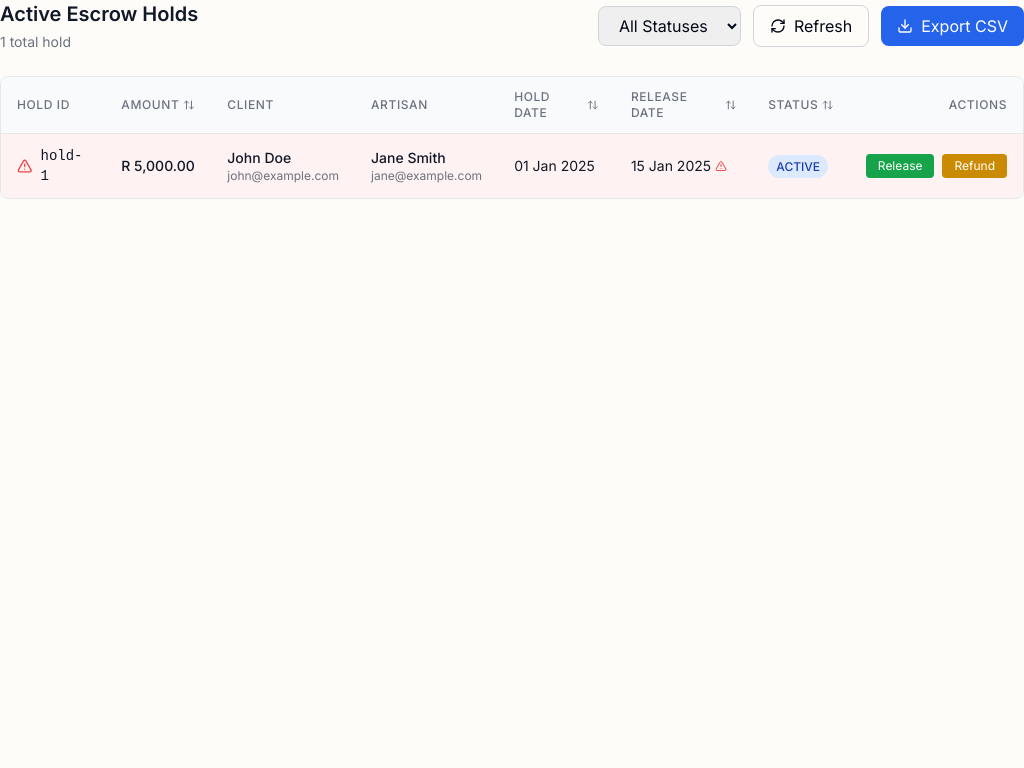
Scenario: ActiveHoldsTable › should open release modal when release button clicked
Click the button "Release". click: [900, 166]
box: [866,154,934,178]
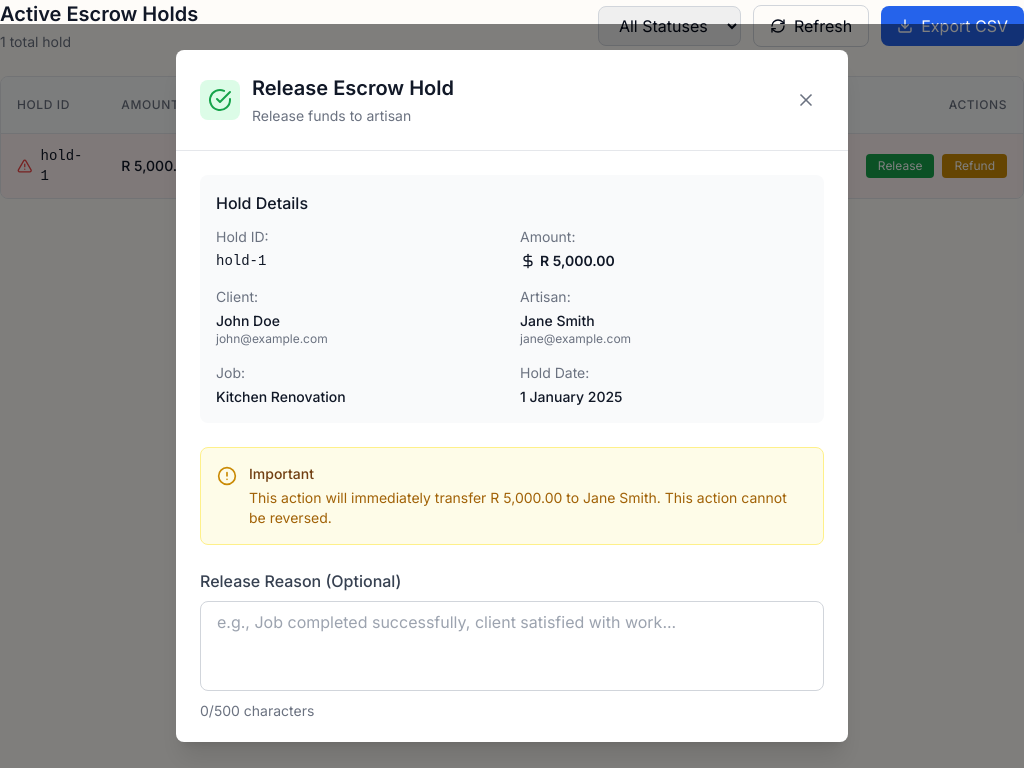
Result: the dialog "Release Escrow Hold" is shown
